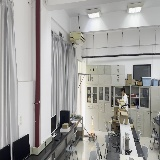fire: (90, 116, 94, 136)
